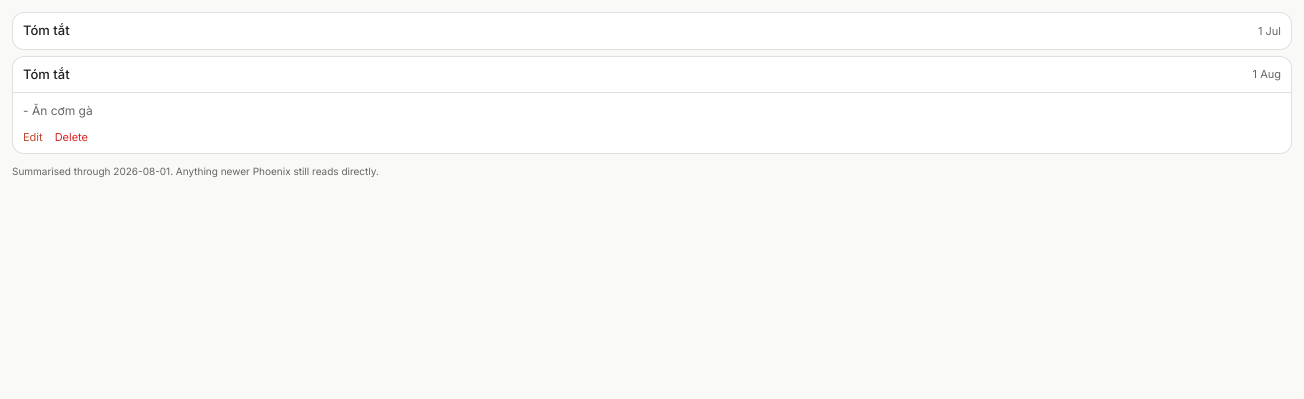
MemorySections › reloads on a stale-etag conflict
Step 1. Click the button "Edit" → [33, 137], box [23, 128, 43, 145]
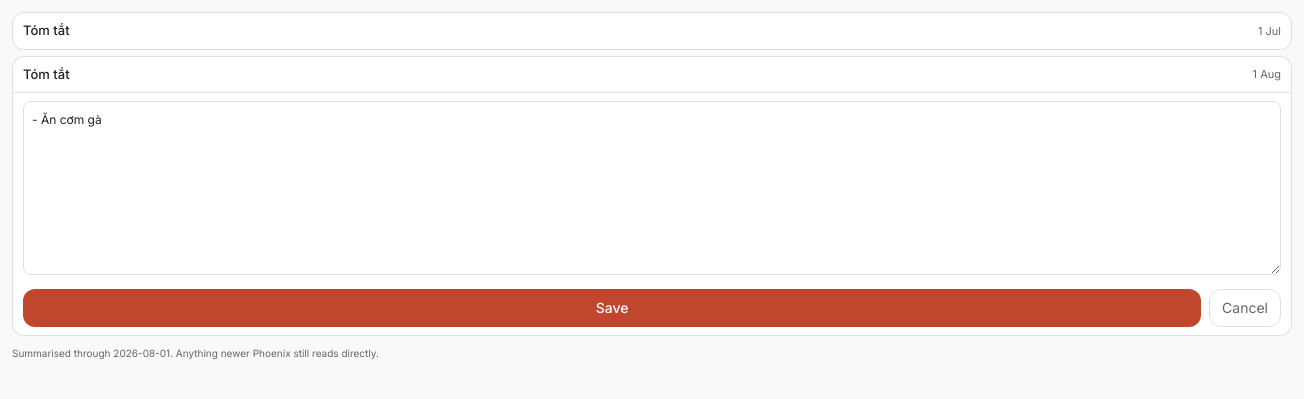
Step 2. Click the button "Save" → [612, 308], box [23, 289, 1201, 327]
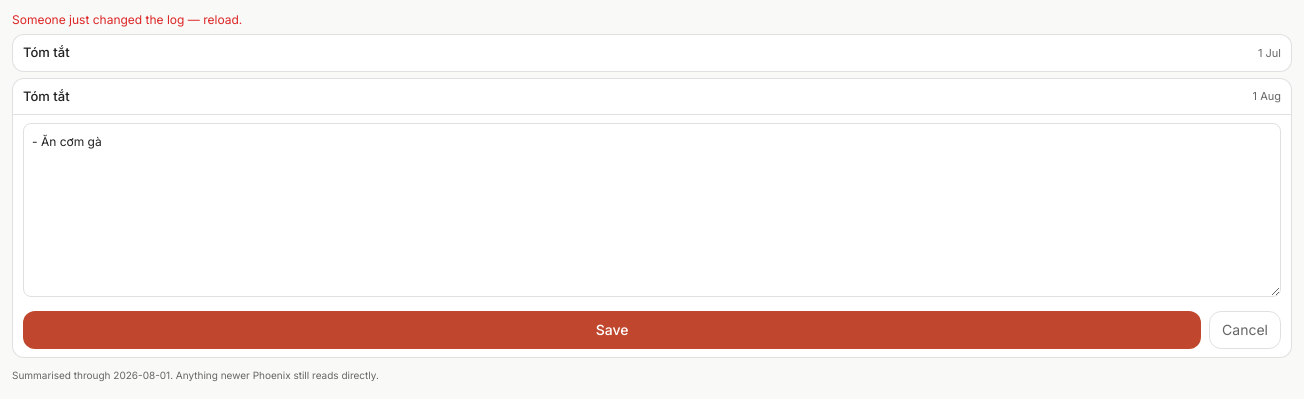
Result: the text "Someone just changed the log — reload." is shown at [12, 12, 242, 27]
